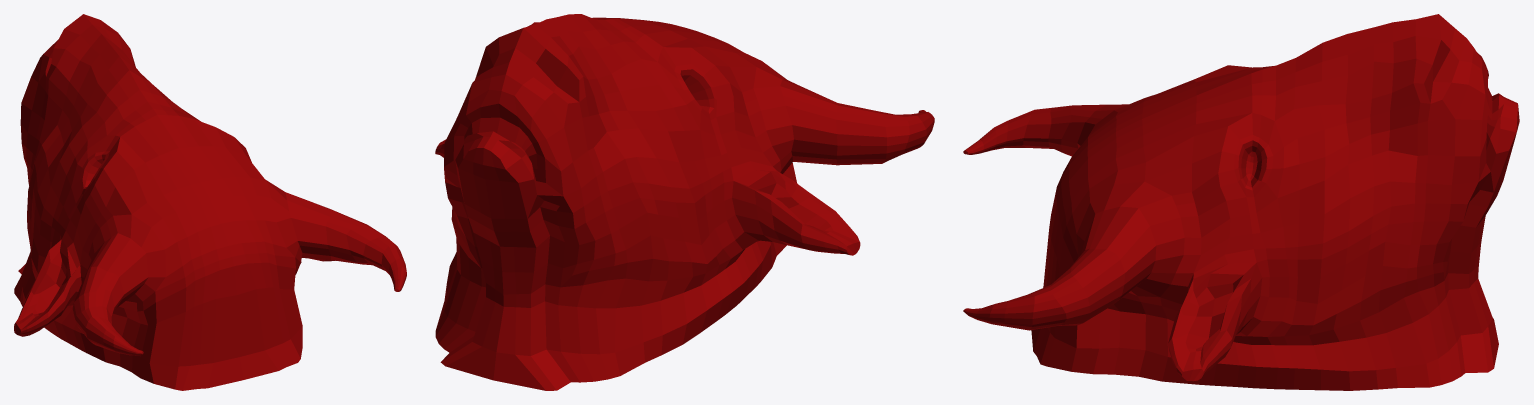
File: bison2.gltf
3 renders of one model, left to right at view 1: azimuth 30°, elevation 25°; view 2: azimuth 150°, elevation 25°; view 3: azimuth 270°, elevation 25°, orthographic. The views are drawn at different scales.
Parts seen in each view (by area): view 1: Plane; view 2: Plane; view 3: Plane.
Part boxes in pixels (left/top/right/bottom): Plane: left=14, top=14, right=406, bottom=390; Plane: left=435, top=14, right=934, bottom=390; Plane: left=963, top=14, right=1519, bottom=390.
Bounding box in the file's own units: 3.55 × 2.69 × 4.1.
